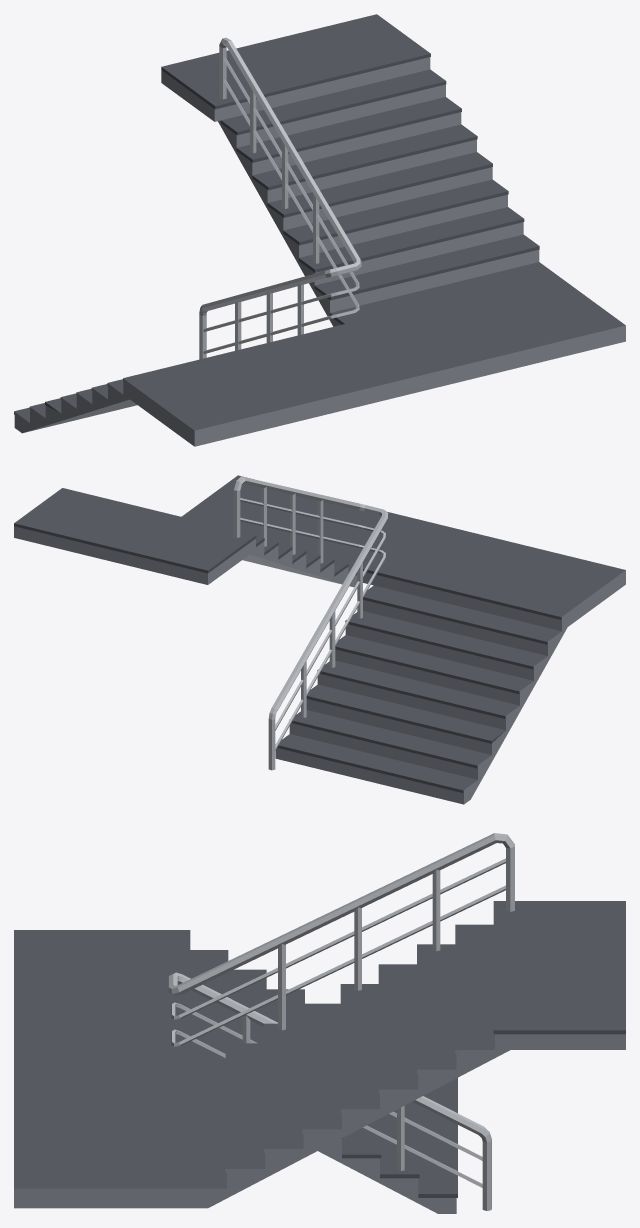
Rendered from M_Stairs700_01.fbx.
3 renders of one model, top to bottom at view 1: azimuth 30°, elevation 25°; view 2: azimuth 150°, elevation 25°; view 3: azimuth 270°, elevation 25°, orthographic. The views are drawn at different scales.
Visible parts, largest first — view 1: M_Stairs700_01; view 2: M_Stairs700_01; view 3: M_Stairs700_01.
Boxes of the visible parts, left/top/right/bottom form: M_Stairs700_01: left=14, top=14, right=625, bottom=446; M_Stairs700_01: left=14, top=475, right=625, bottom=804; M_Stairs700_01: left=14, top=833, right=625, bottom=1213.
Size of what is drawn, in the model's own units: 700 by 700 by 495.
